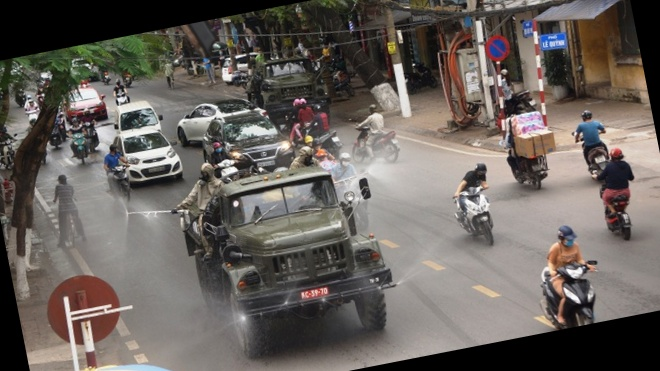plate: (300, 283, 332, 302), (252, 158, 280, 170), (145, 165, 167, 175), (530, 160, 542, 173)
